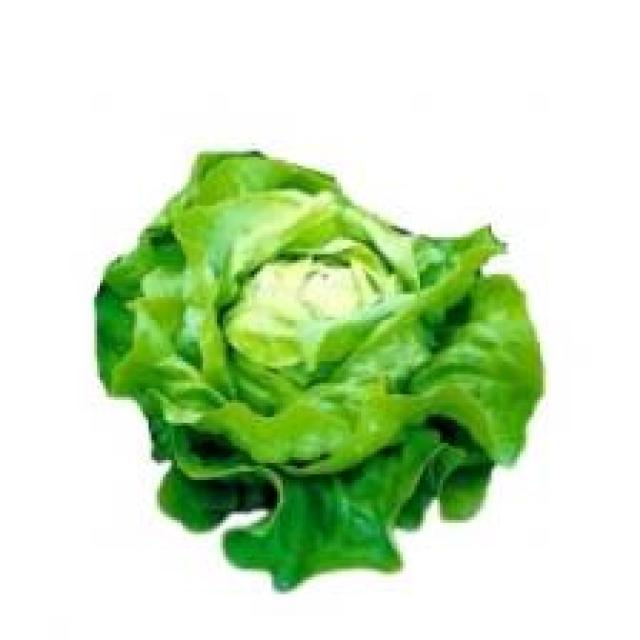Lettuce: (95, 139, 542, 582)
